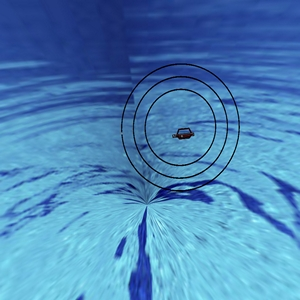circle: (100, 42, 251, 202)
submarine: (168, 123, 198, 147)
